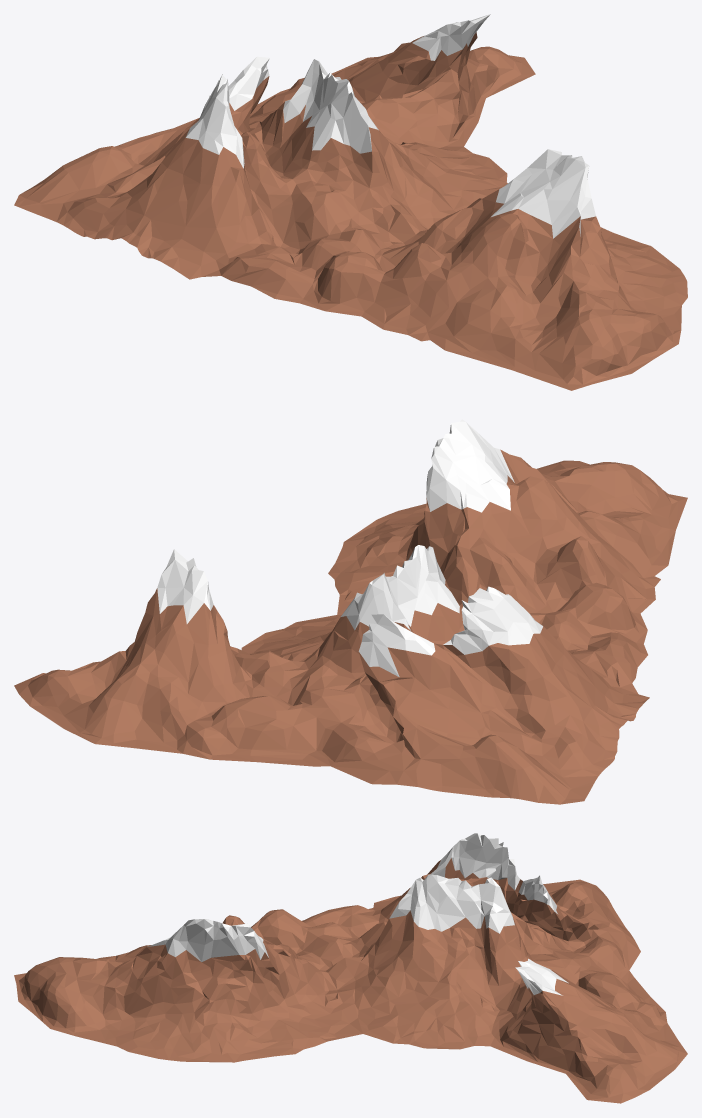
File: Mountains.fbx
3 views of the same model, one above another, from view 1: azimuth 30°, elevation 25°; view 2: azimuth 150°, elevation 25°; view 3: azimuth 270°, elevation 25° (orthographic). The views are drawn at different scales.
Visible parts, largest first — view 1: Mountains; view 2: Mountains; view 3: Mountains.
Boxes of the visible parts, left/top/right/bottom form: Mountains: left=14, top=14, right=687, bottom=390; Mountains: left=14, top=419, right=687, bottom=804; Mountains: left=14, top=833, right=687, bottom=1103.
Bounding box in the file's own units: 19.5 × 4.51 × 24.79.
